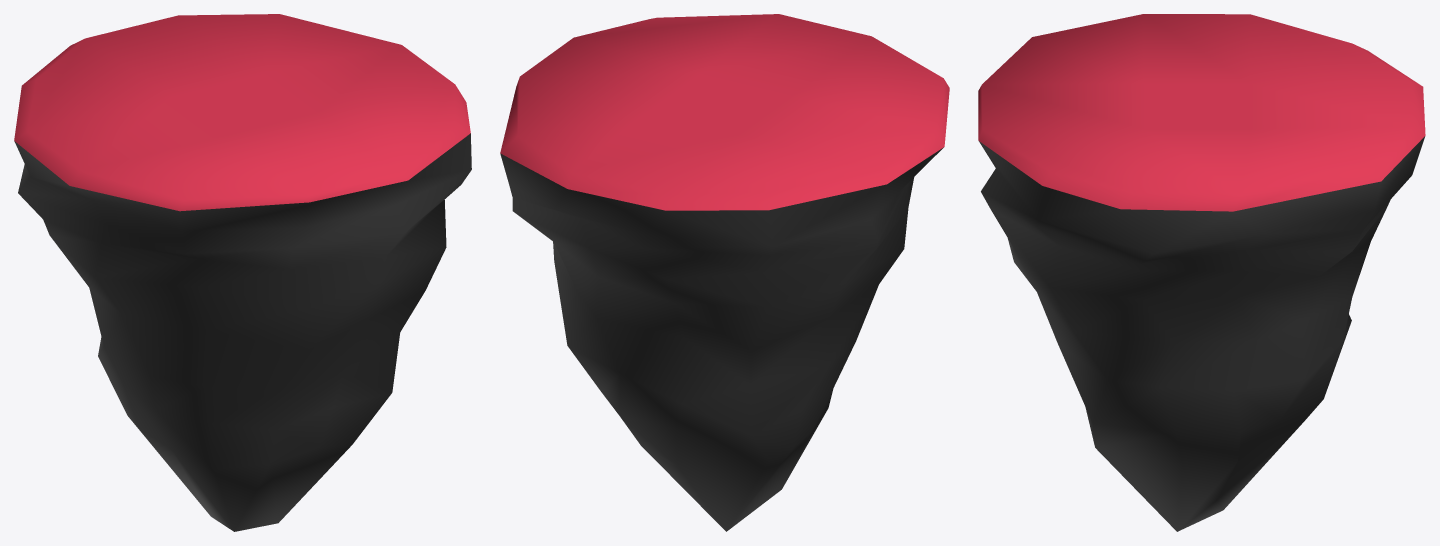
The model's file is FBX_EVT_Island_01.FBX.
3 views of the same model, side by side, from view 1: azimuth 30°, elevation 25°; view 2: azimuth 150°, elevation 25°; view 3: azimuth 270°, elevation 25° (orthographic).
Parts seen in each view (by area): view 1: Island; view 2: Island; view 3: Island.
Part boxes in pixels (x1,y1,x2,y2): Island: (14,14,471,531); Island: (500,14,949,531); Island: (978,14,1425,531).
Size of the model in its own units: 1336 by 1350 by 1322.
